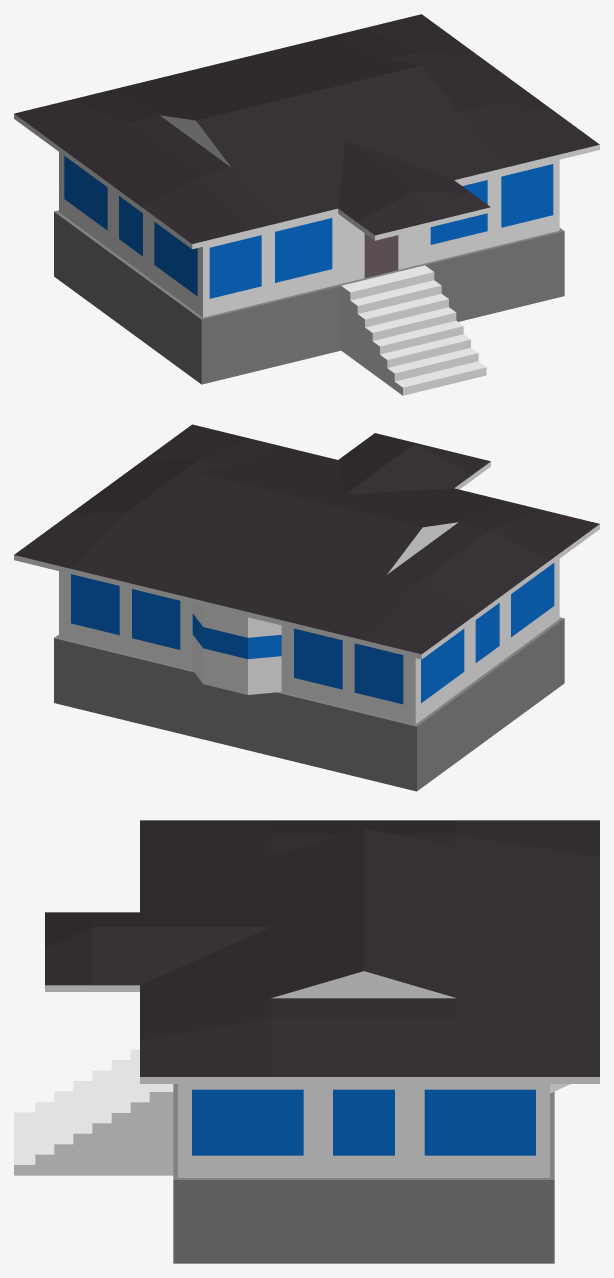
The model's file is bar.fbx.
3 views of the same model, one above another, from view 1: azimuth 30°, elevation 25°; view 2: azimuth 150°, elevation 25°; view 3: azimuth 270°, elevation 25° (orthographic). The views are drawn at different scales.
Parts seen in each view (by area): view 1: Cube; view 2: Cube; view 3: Cube.
Boxes of the visible parts, x1,y1,x2,y2 form: Cube: [14, 14, 599, 395]; Cube: [14, 424, 599, 791]; Cube: [14, 820, 599, 1263].
Bounding box in the file's own units: 1277 × 579 × 1232.
